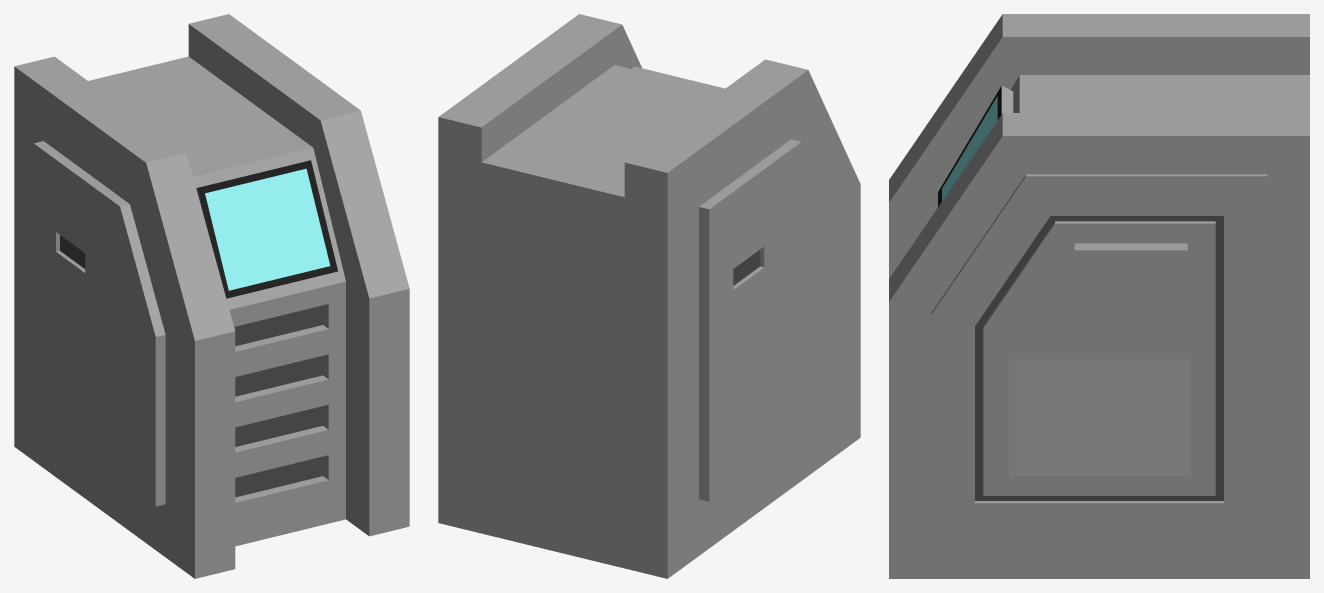
The model's file is SciFi_Console_Grey_01.fbx.
3 renders of one model, left to right at view 1: azimuth 30°, elevation 25°; view 2: azimuth 150°, elevation 25°; view 3: azimuth 270°, elevation 25°, orthographic. The views are drawn at different scales.
Parts seen in each view (by area): view 1: SciFi_Console_Grey_01; view 2: SciFi_Console_Grey_01; view 3: SciFi_Console_Grey_01.
Boxes of the visible parts, <box> form: SciFi_Console_Grey_01: <box>14,14,409,578</box>; SciFi_Console_Grey_01: <box>438,14,860,578</box>; SciFi_Console_Grey_01: <box>889,14,1309,578</box>.
Bounding box in the file's own units: 31.47 × 47.59 × 40.97.
